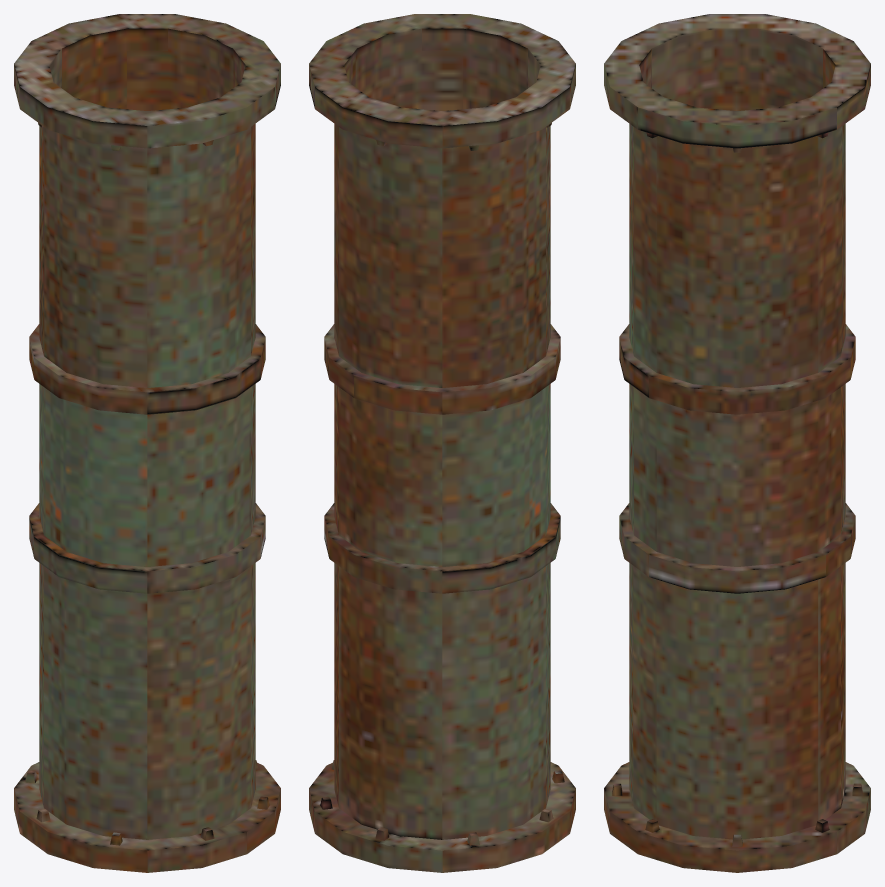
Rendered from Pipe_Set_1_3.glb.
3 renders of one model, left to right at view 1: azimuth 30°, elevation 25°; view 2: azimuth 150°, elevation 25°; view 3: azimuth 270°, elevation 25°, orthographic.
Parts seen in each view (by area): view 1: Pipe_Set_1_3; view 2: Pipe_Set_1_3; view 3: Pipe_Set_1_3.
Part boxes in pixels (x1,y1,x2,y2): Pipe_Set_1_3: (14,14,280,872); Pipe_Set_1_3: (309,14,575,872); Pipe_Set_1_3: (604,14,870,872).
Bounding box in the file's own units: 0.2686 × 0.8346 × 0.2701.
1 material, 1 textured.
